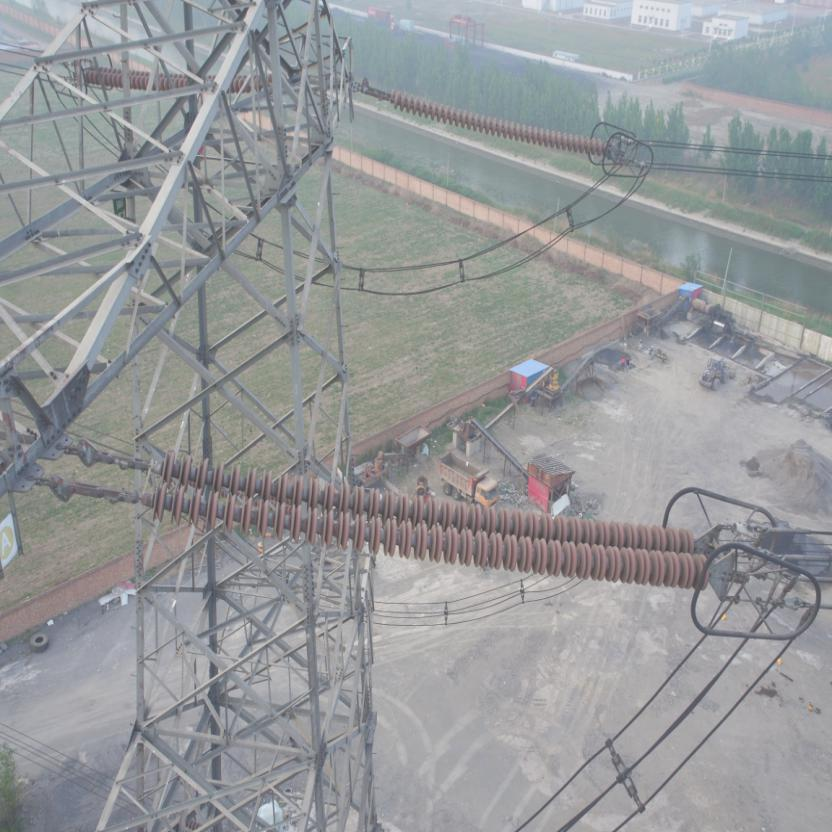insulator: (113, 446, 720, 593), (376, 86, 615, 162)
